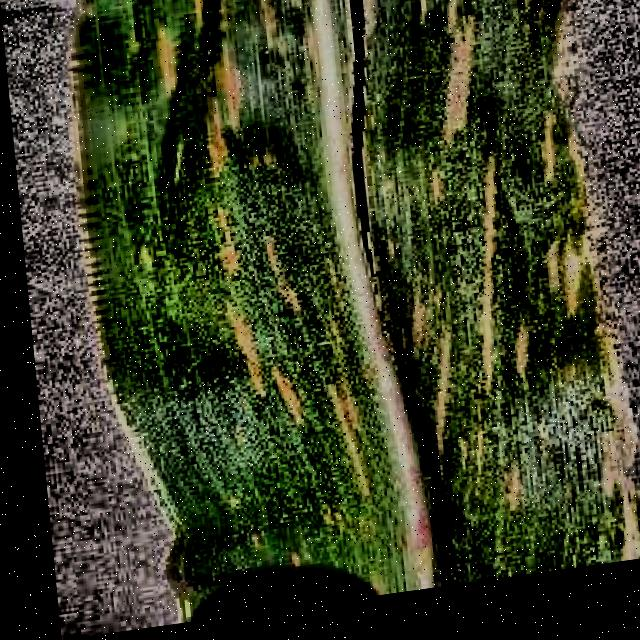gray_spot: (46, 0, 630, 634)
